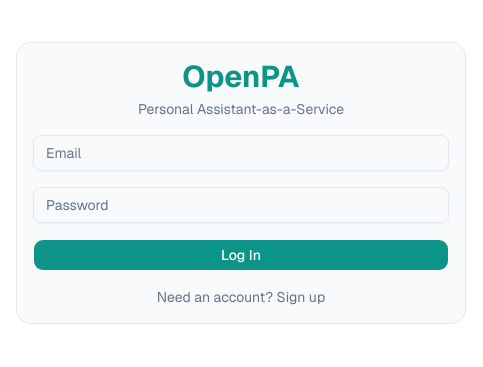
Test: LoginPage › toggles between login and signup
The image size is (483, 367).
Step 1. Click the button "Need an account? Sign up" → point(241, 297), box [157, 287, 325, 307]
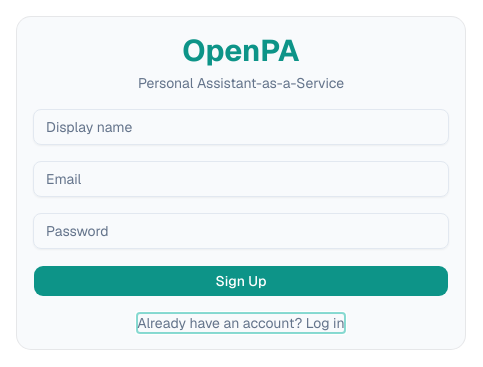
Check: the field with placeholder "Display name" is shown, box [33, 109, 449, 145]
Check: the button "Sign Up" is shown, box [33, 265, 449, 297]
Step 2. Click the button "Already have an account? Log in" → point(241, 323), box [137, 313, 345, 333]
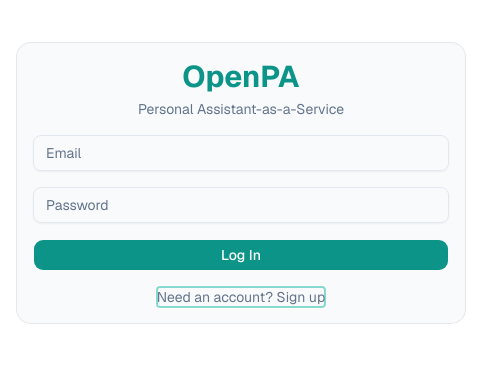
Check: the field with placeholder "Display name" is not shown
Check: the button "Log In" is shown, box [33, 239, 449, 271]
